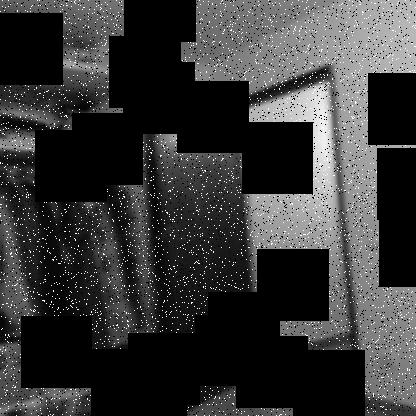Porte: (144, 63, 367, 416)
